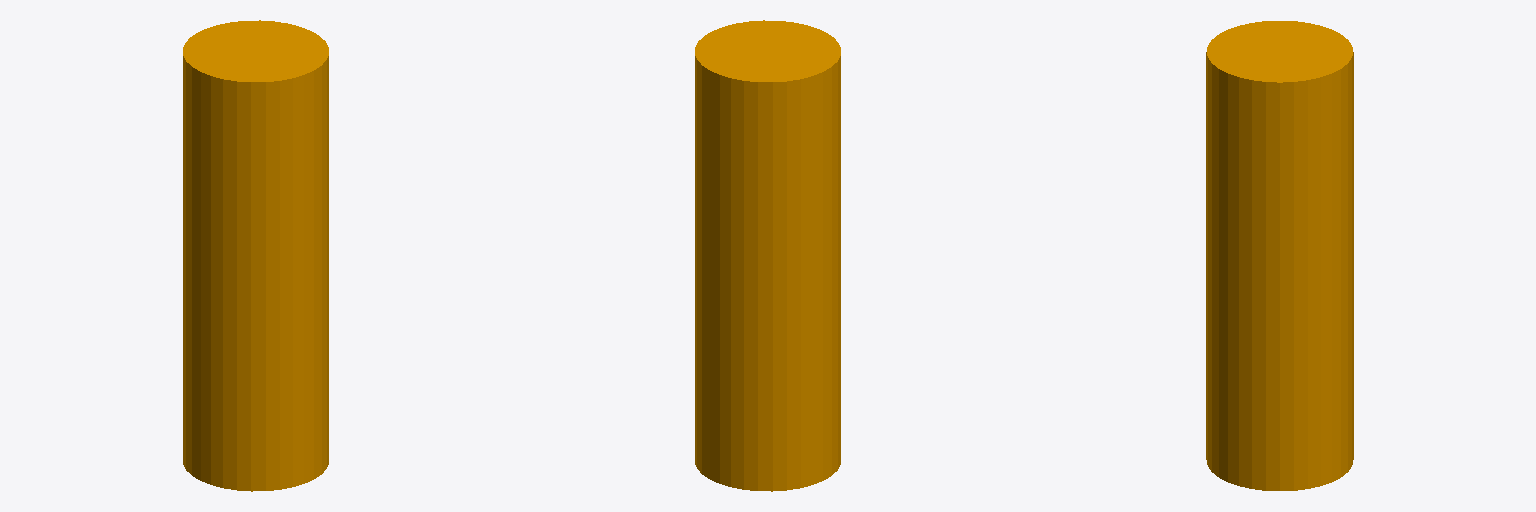
The robot description file, URDF, robot "simple_cylinder":
<robot name="simple_cylinder">
  <link name="my_cylinder">
    <inertial>
      <origin xyz="0 0 0.0445"/>
      <mass value="0.1" />
      <inertia  ixx="0.0001" ixy="0.0"  ixz="0.0"  iyy="0.0001"  iyz="0.0"  izz="0.0001" />
    </inertial>
    <visual>
      <origin xyz="0 0 0.0445"/>
      <geometry>
        <cylinder radius="0.0145" length="0.089"/>
      </geometry>
    </visual>
    <collision>
      <origin xyz="0 0 0.0445"/>
      <geometry>
        <cylinder radius="0.0145" length="0.089"/>
      </geometry>
    </collision>
  </link>
  <gazebo reference="my_cylinder">
    <material>Gazebo/Blue</material>
  </gazebo>
</robot>

--- Render facts (derived) ---
Views: 3 orthographic renders of the robot side by side, from view 1: azimuth 30°, elevation 25°; view 2: azimuth 150°, elevation 25°; view 3: azimuth 270°, elevation 25°.
Robot: simple_cylinder — 1 links, 0 joints (none); root link my_cylinder; default pose: every joint at zero.
Visible links, largest first — view 1: my_cylinder; view 2: my_cylinder; view 3: my_cylinder.
Boxes of the visible links, x1,y1,x2,y2 form: my_cylinder: (183, 20, 328, 491); my_cylinder: (695, 20, 840, 491); my_cylinder: (1206, 21, 1353, 490).
Bounding box of the posed robot: 0.029 × 0.029 × 0.089 m (x, y, z).
Geometry: primitives only (box / cylinder / sphere), no mesh files.